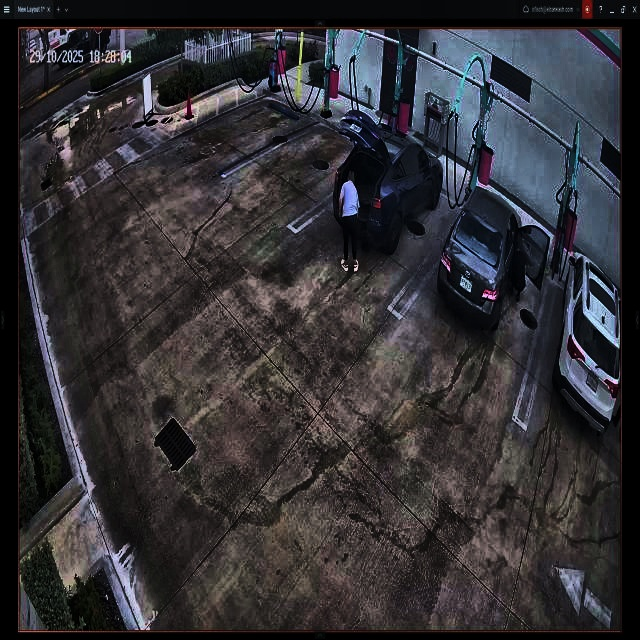Car: (439, 183, 544, 327), (335, 106, 443, 244)
